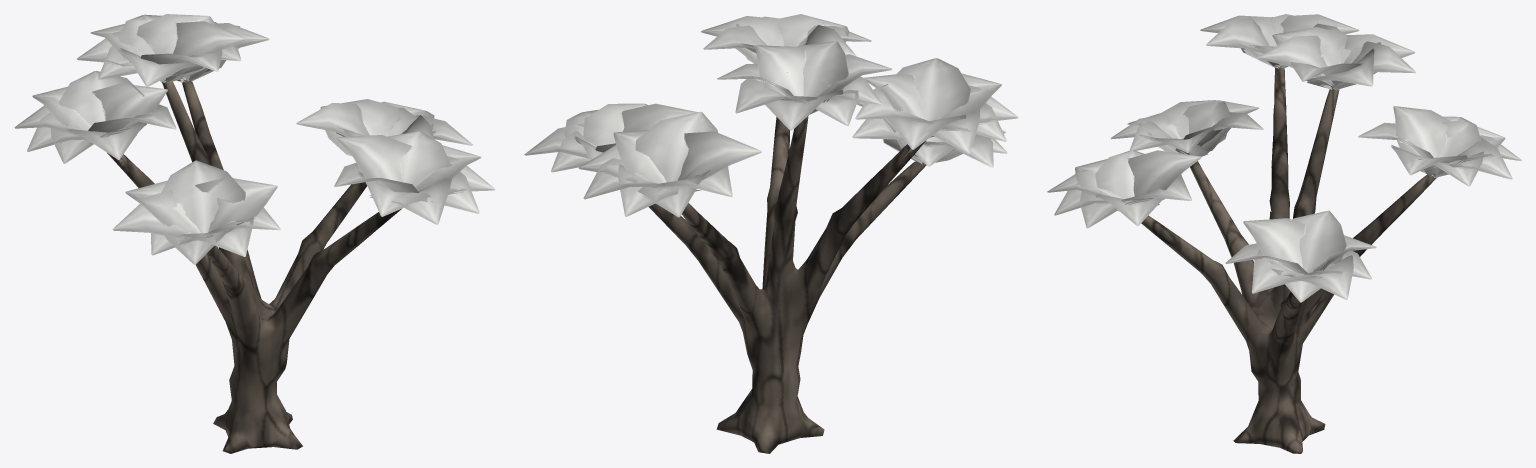
Rendered from LeavedMediumA.fbx.
The picture shows the model from 3 angles, left to right: view 1: azimuth 30°, elevation 25°; view 2: azimuth 150°, elevation 25°; view 3: azimuth 270°, elevation 25°; orthographic projection. The views are drawn at different scales.
Visible parts, largest first — view 1: LeavedMediumA; view 2: LeavedMediumA; view 3: LeavedMediumA.
Boxes of the visible parts, box(x1,y1,x2,y2) form: LeavedMediumA: box(14, 14, 495, 453); LeavedMediumA: box(524, 14, 1018, 453); LeavedMediumA: box(1047, 14, 1521, 453).
Bounding box in the file's own units: 0.974 × 0.8444 × 1.
2 materials, 2 textured.
